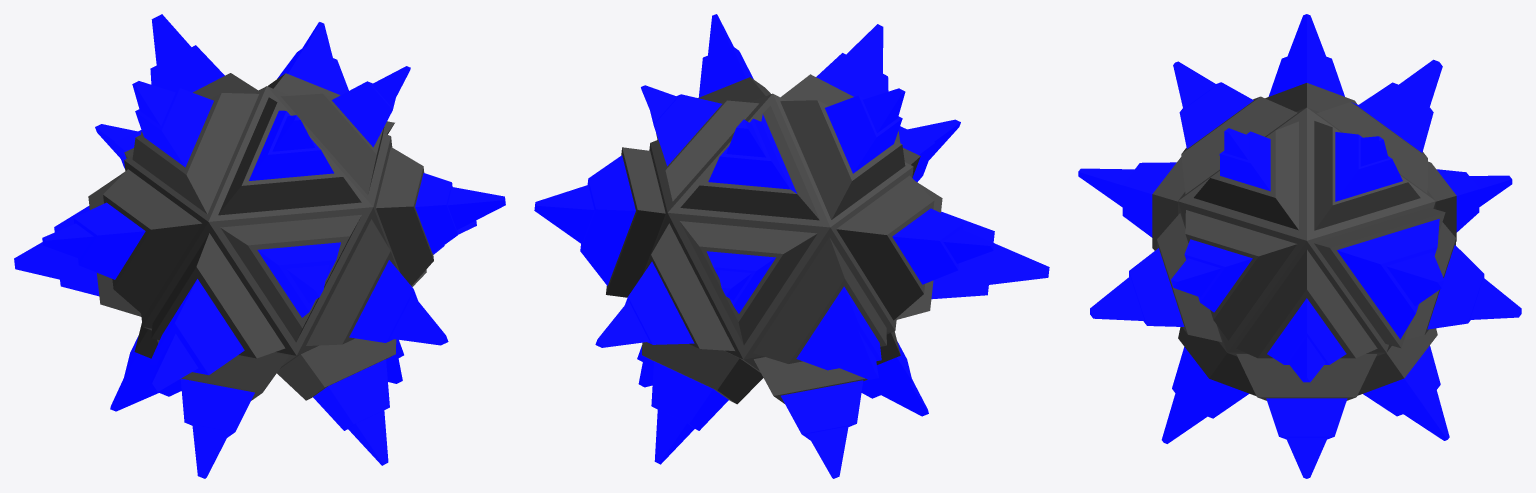
3 views of the same model, side by side, from view 1: azimuth 30°, elevation 25°; view 2: azimuth 150°, elevation 25°; view 3: azimuth 270°, elevation 25° (orthographic). The views are drawn at different scales.
Parts seen in each view (by area): view 1: PowerUp; view 2: PowerUp; view 3: PowerUp.
Boxes of the visible parts, x1,y1,x2,y2 form: PowerUp: (14,14,505,478); PowerUp: (534,14,1049,478); PowerUp: (1078,14,1521,478).
Bounding box in the file's own units: 3.9 × 3.2 × 3.66.
